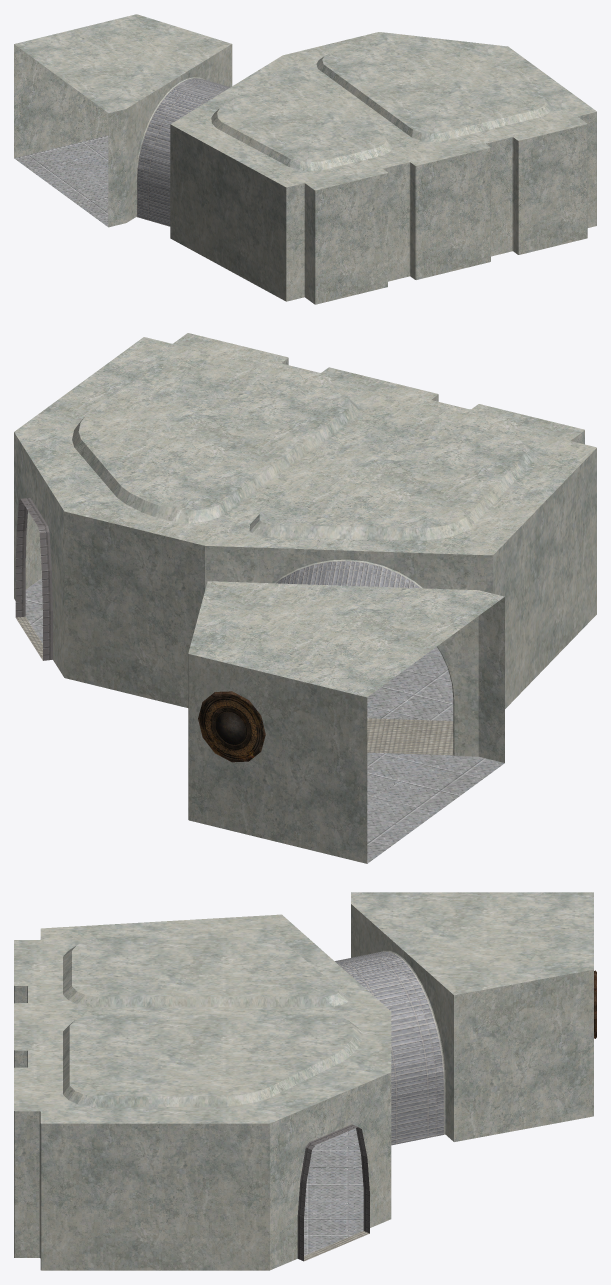
Rendered from thm_all_cantina_r1_foyer1_mesh_r1.fbx.
3 views of the same model, one above another, from view 1: azimuth 30°, elevation 25°; view 2: azimuth 150°, elevation 25°; view 3: azimuth 270°, elevation 25° (orthographic). The views are drawn at different scales.
Visible parts, largest first — view 1: mesh_node; view 2: mesh_node; view 3: mesh_node.
Boxes of the visible parts, x1,y1,x2,y2 form: mesh_node: (14, 14, 596, 304); mesh_node: (14, 333, 596, 863); mesh_node: (14, 892, 596, 1270).
Size of the model in its own units: 13.5 by 4.2 by 14.39.
